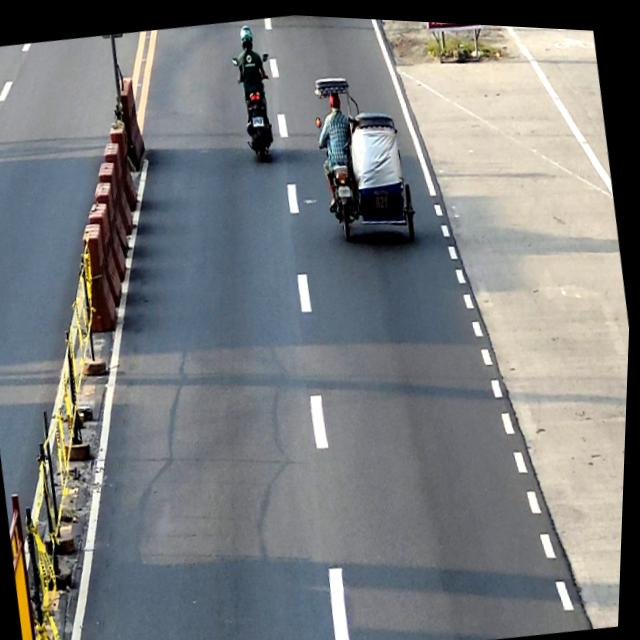License-Plate: (338, 181, 353, 195), (253, 113, 265, 125)
Motorcycle: (229, 49, 286, 163)
Tricycle: (308, 60, 426, 250)
